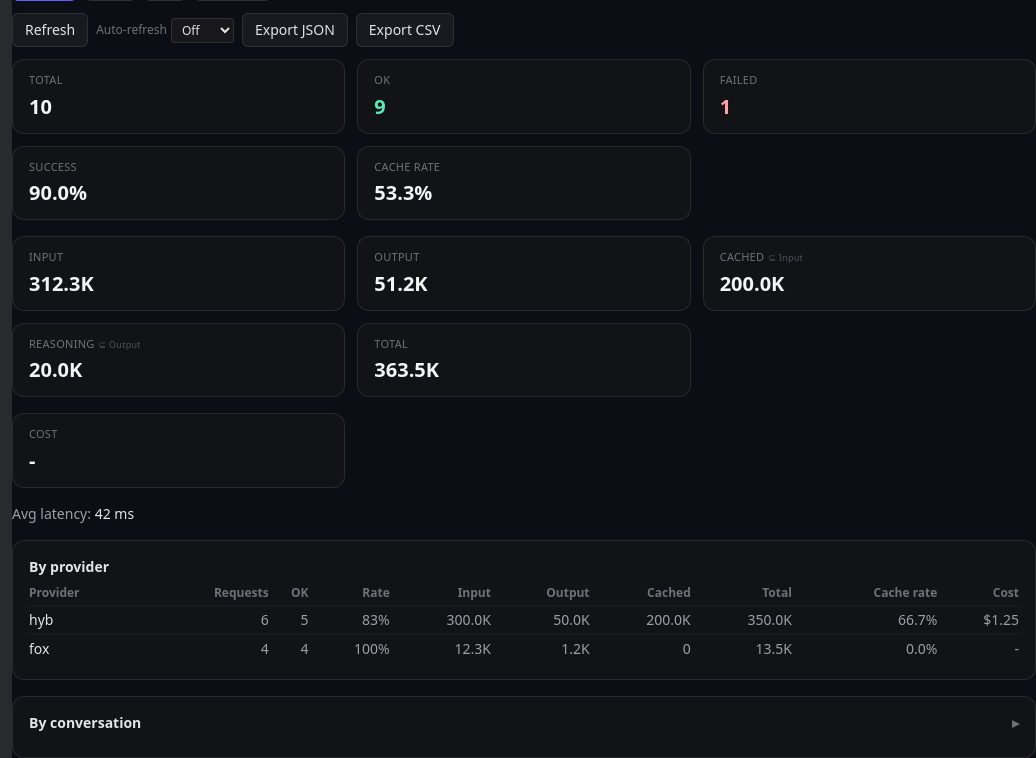
Scenario: StatsPanel › shows the conversation name and falls back to the truncated id
(page scrolled)
Expected: the text "363.5K" is shown, [374,356,439,383]
What coordinates should you click on to do the following:
click the button "By conversation ▸"
I would click on:
 (85, 722)
Its box is [29,712,1019,732].
(page scrolled)
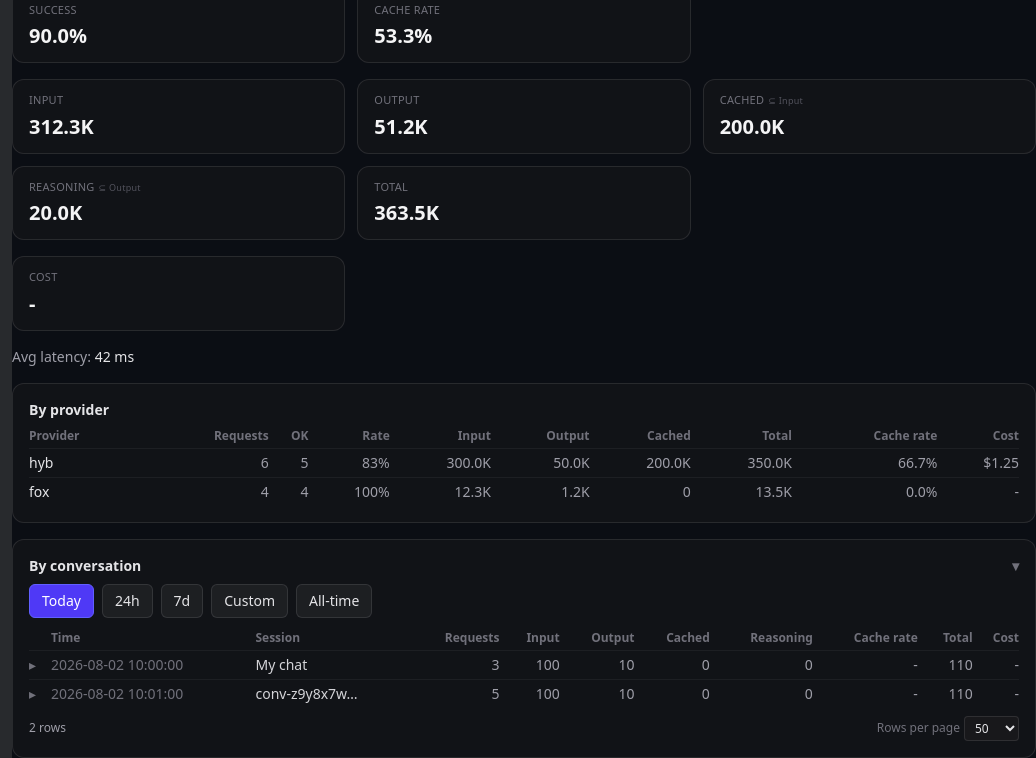
Now the button "My chat" is shown, box [256,654,307,674]
